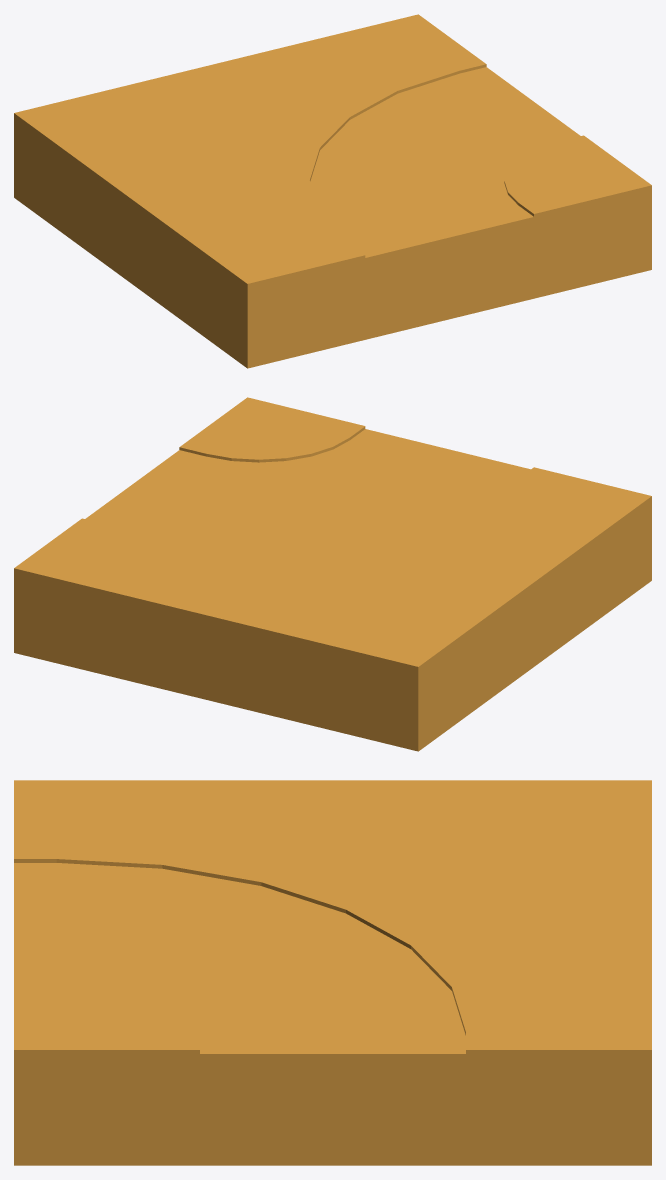
Rendered from tile-mainroad-curve.glb.
3 views of the same model, one above another, from view 1: azimuth 30°, elevation 25°; view 2: azimuth 150°, elevation 25°; view 3: azimuth 270°, elevation 25° (orthographic). The views are drawn at different scales.
Visible parts, largest first — view 1: tile-mainroad-curve; view 2: tile-mainroad-curve; view 3: tile-mainroad-curve.
Boxes of the visible parts, x1,y1,x2,y2 form: tile-mainroad-curve: (14,14,651,368); tile-mainroad-curve: (14,397,651,751); tile-mainroad-curve: (14,780,651,1165).
Bounding box in the file's own units: 30 × 6 × 30.
